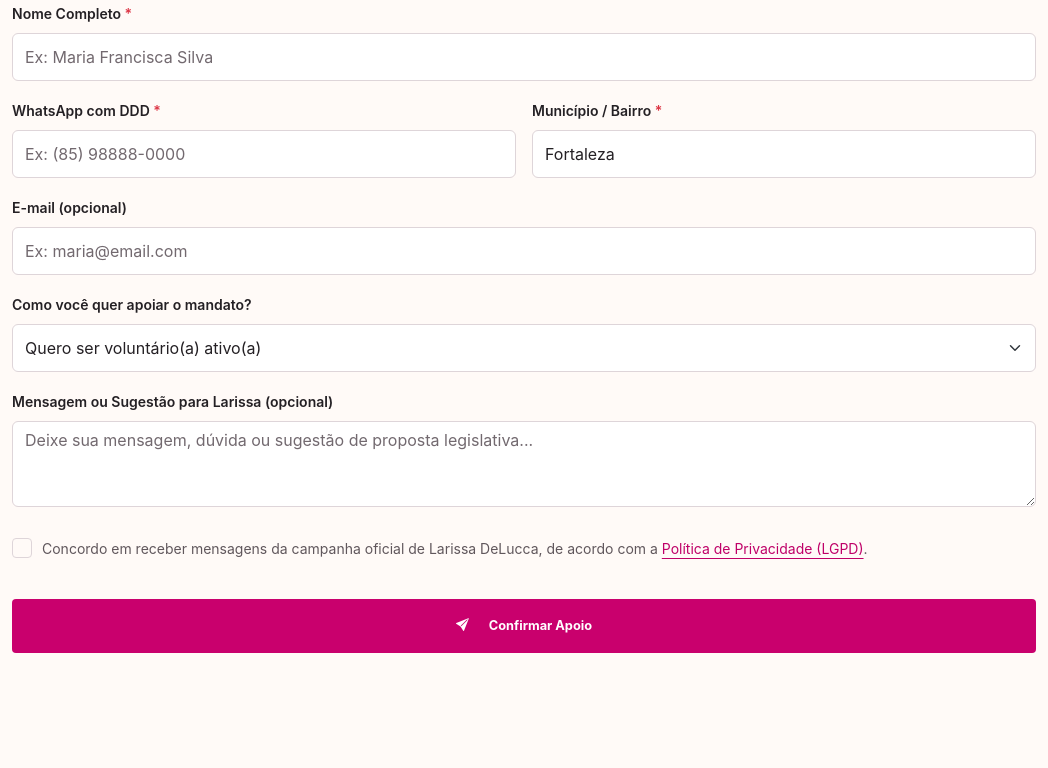
VolunteerForm Component › submits successfully when fields are properly filled
Type "Francisca Ferreira" into the field labelled "Nome Completo *".
click(524, 57); type("Francisca Ferreira")  # box x1=12 y1=33 x2=1036 y2=81
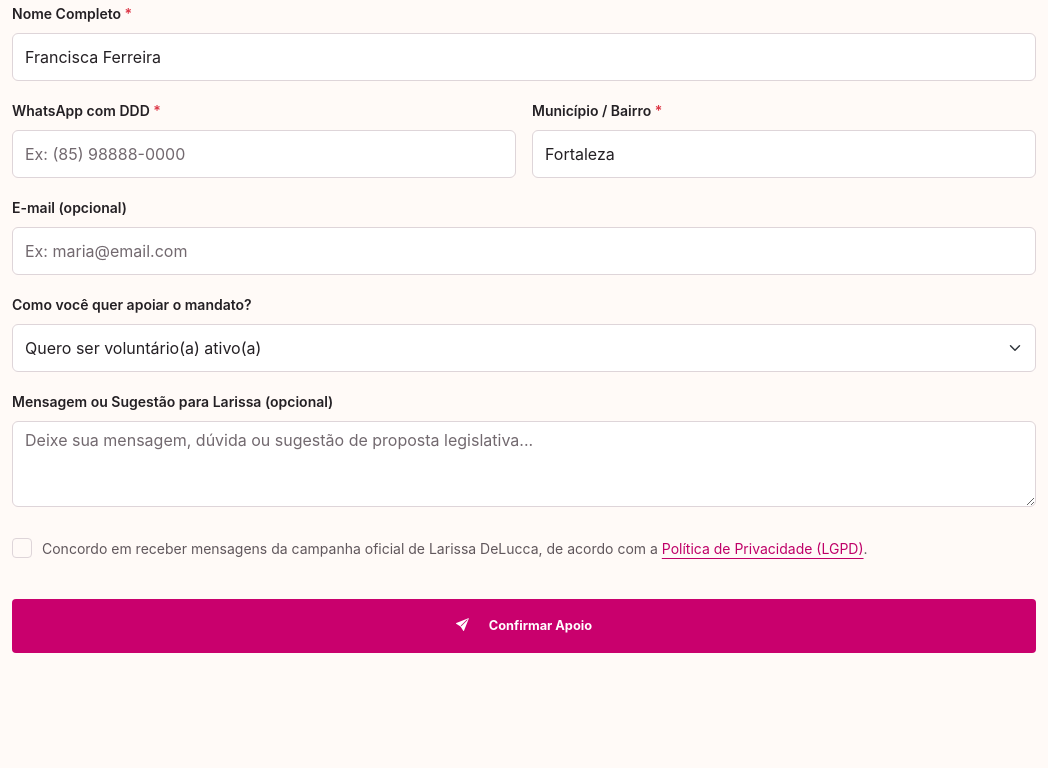
Type "85988887777" into the field labelled "WhatsApp com DDD *".
click(264, 154); type("85988887777")  # box x1=12 y1=130 x2=516 y2=178
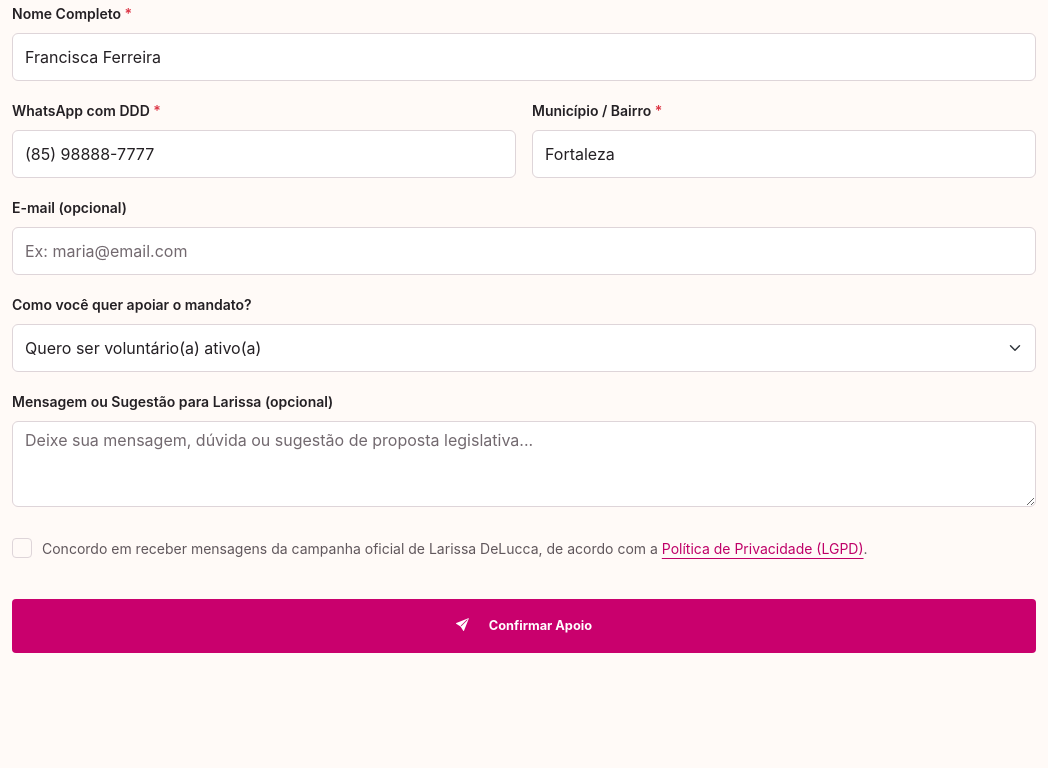
Replace the text in the field labelled "Município / Bairro *" with "Fortaleza - Messejana" at (784, 154), box x1=532 y1=130 x2=1036 y2=178
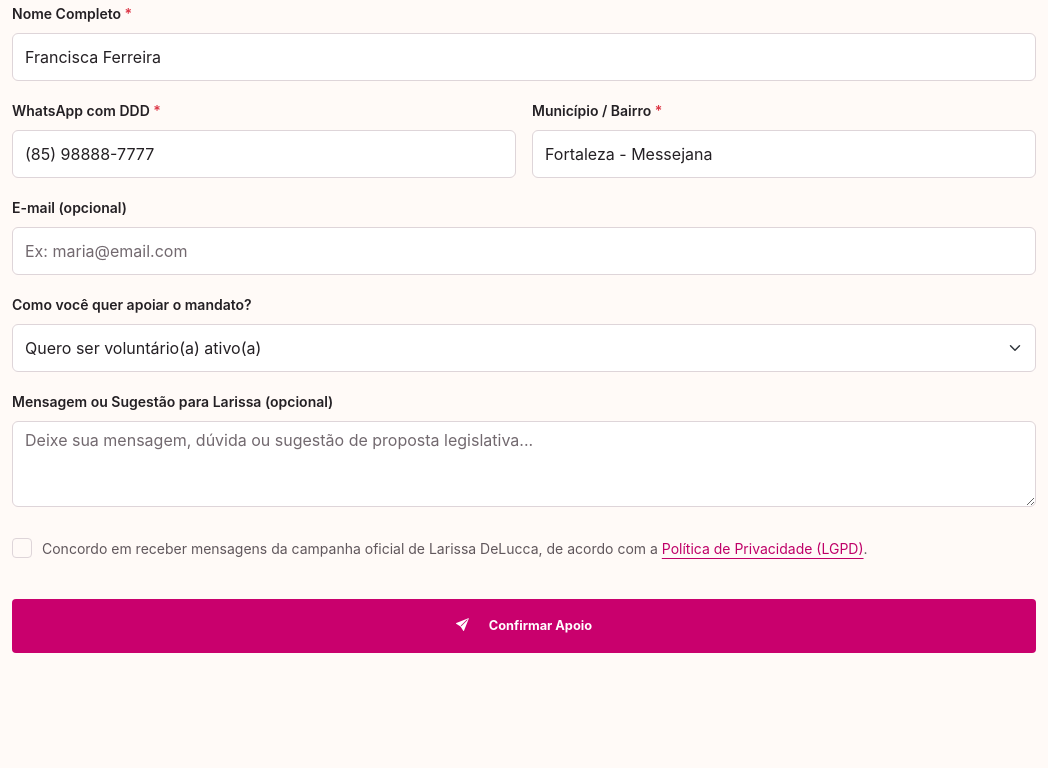
Click the checkbox labelled "Concordo em receber mensagens".
click(22, 548)  # box x1=12 y1=538 x2=32 y2=558
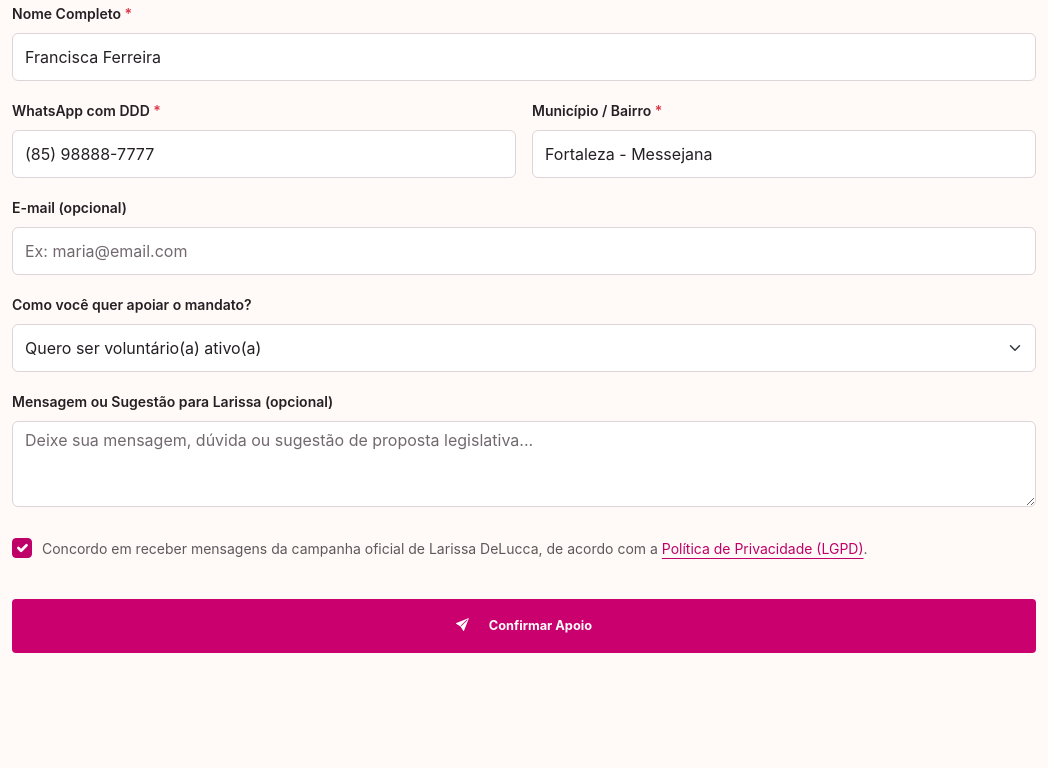
Click the button "Confirmar Apoio".
click(524, 626)  # box x1=12 y1=600 x2=1036 y2=653
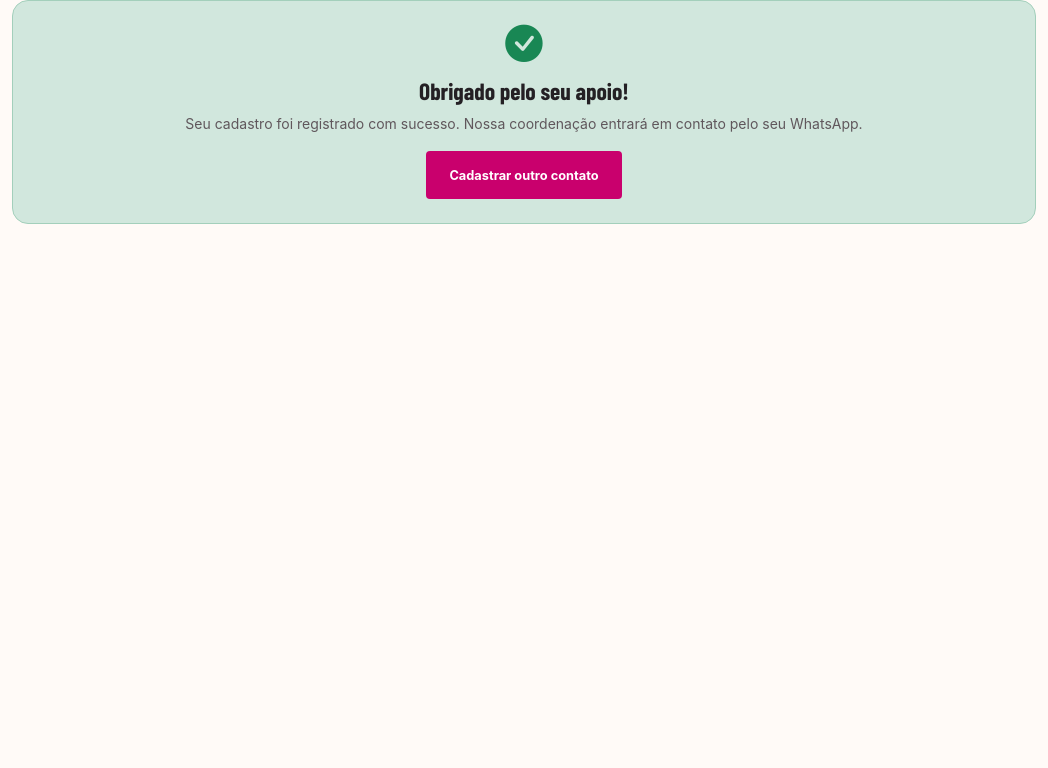
Now the message with test id "form-success" is shown, box x1=12 y1=0 x2=1036 y2=224
Now the heading "Obrigado pelo seu apoio!" is shown, box x1=419 y1=77 x2=629 y2=105
